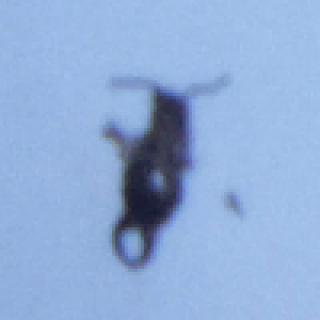earwig: (95, 70, 232, 272)
